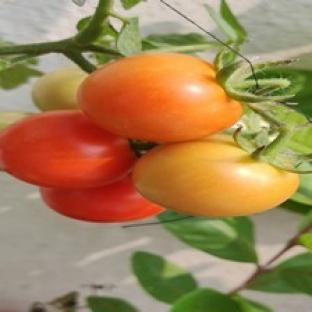Tomato: (78, 53, 242, 142), (133, 136, 299, 217), (0, 111, 135, 188), (41, 176, 164, 222), (33, 67, 87, 111), (0, 112, 33, 130)
